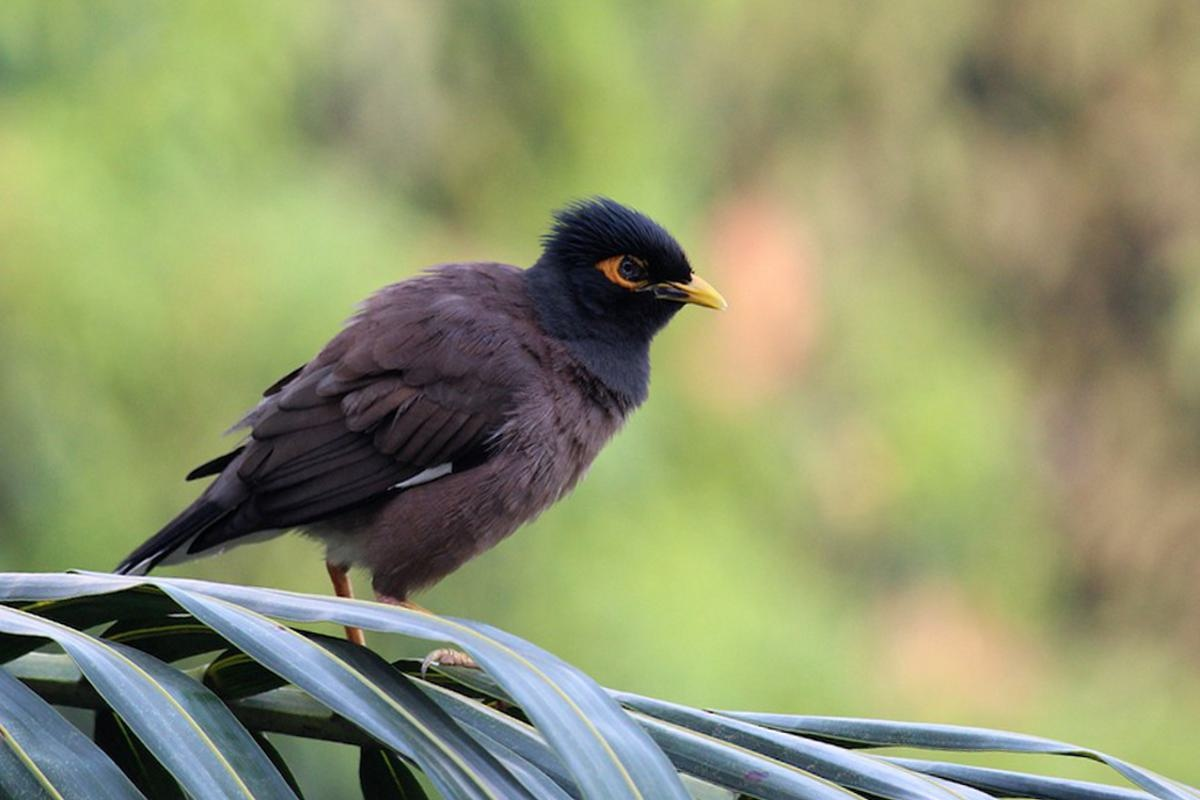myna: (71, 196, 753, 624)
